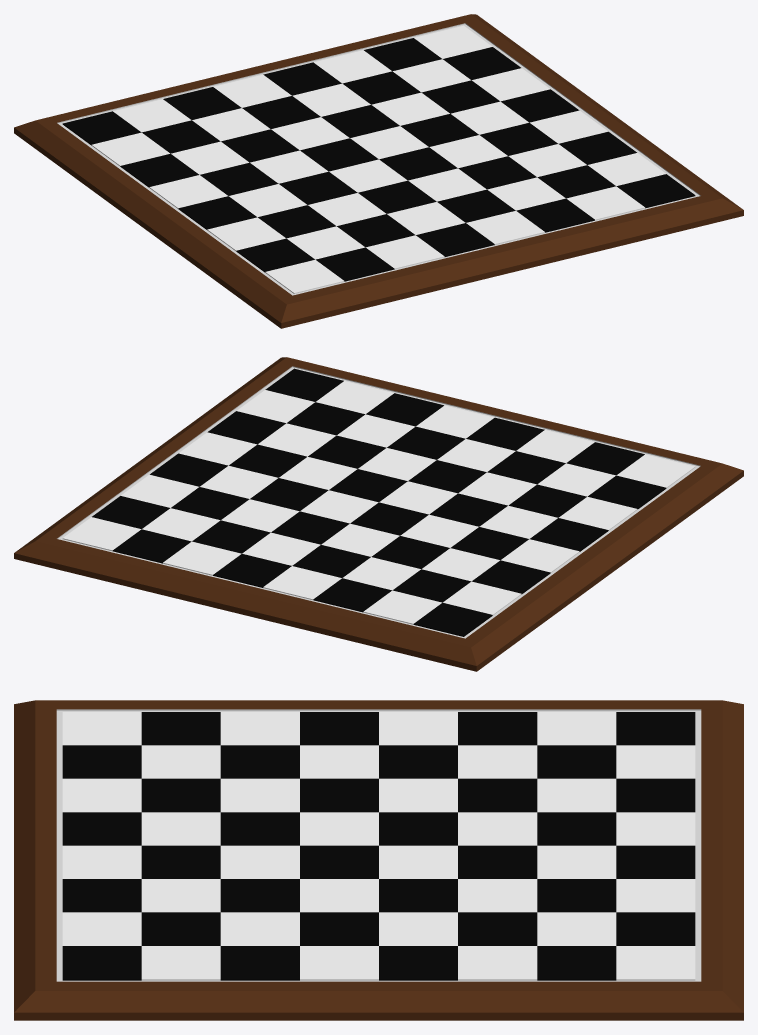
File: Board.fbx
3 renders of one model, top to bottom at view 1: azimuth 30°, elevation 25°; view 2: azimuth 150°, elevation 25°; view 3: azimuth 270°, elevation 25°, orthographic. The views are drawn at different scales.
Parts seen in each view (by area): view 1: Cube; view 2: Cube; view 3: Cube.
Boxes of the visible parts, left/top/right/bottom form: Cube: left=14, top=14, right=743, bottom=328; Cube: left=14, top=357, right=743, bottom=671; Cube: left=14, top=700, right=743, bottom=1020.
Bounding box in the file's own units: 200 × 200 × 6.28.
